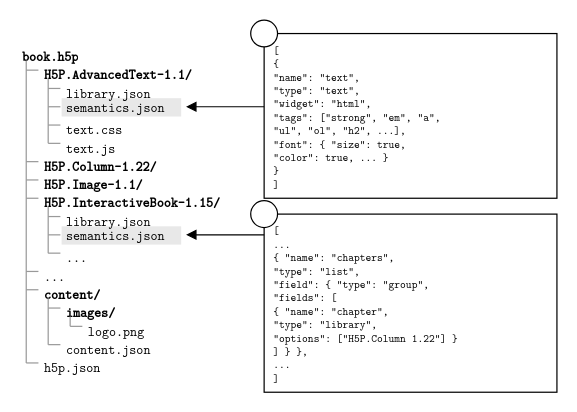
This 577x412 diagram has some shape labels left out. The shapes that lost their labels are listed below. From the top down, each one's centre as x and y in pixels, then its label:
the point at 263,33: 3a
the point at 263,213: 3b
